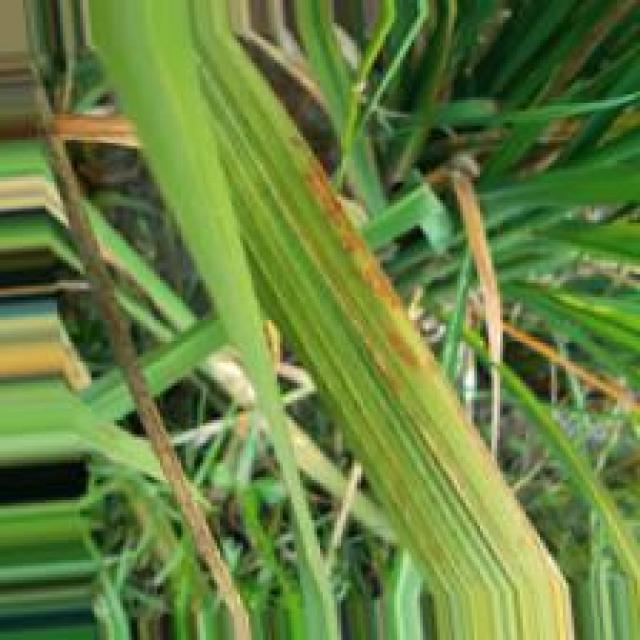Narrow_Brown_Leaf_Spot: (296, 147, 434, 373)
